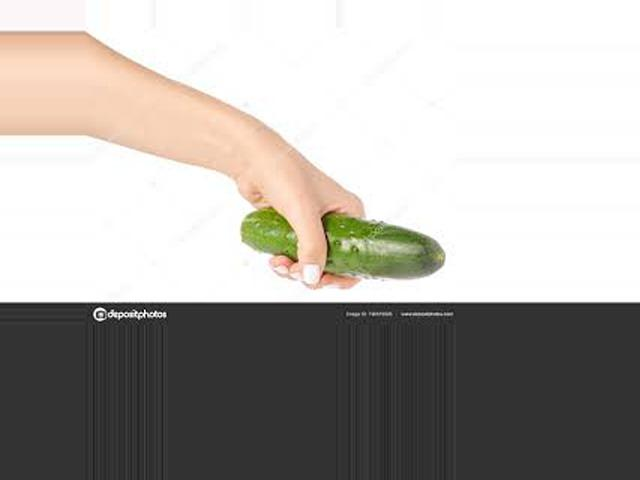cucumber: (242, 208, 446, 280)
